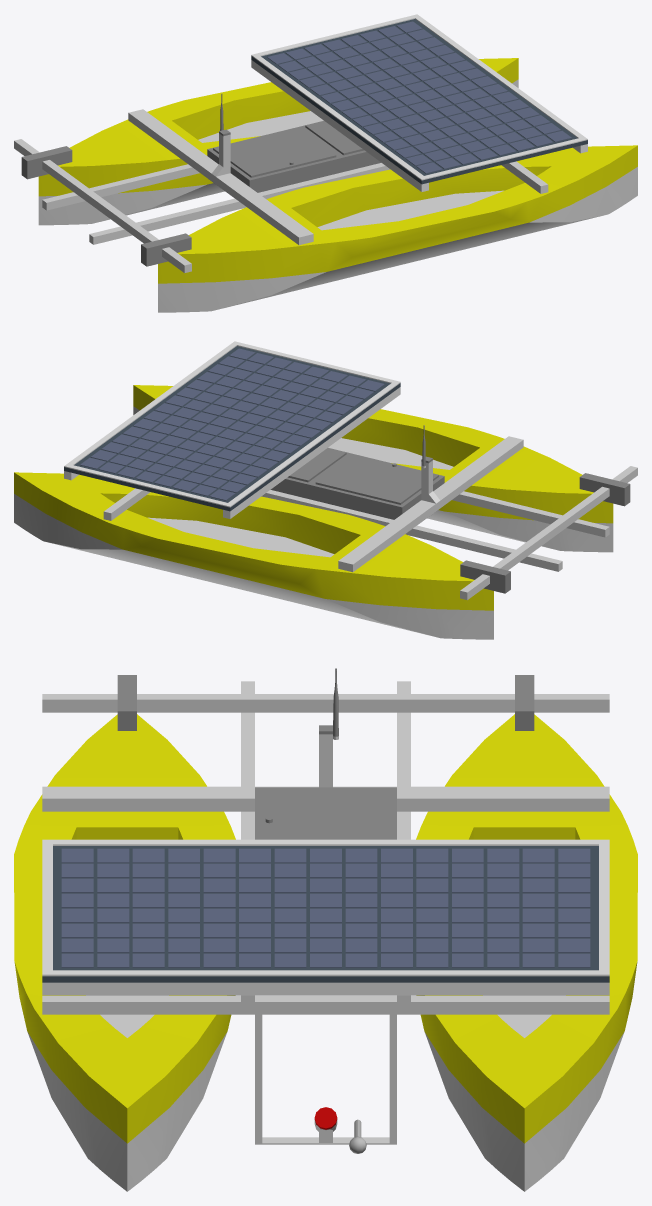
Rendered from squirtle.dae.
3 renders of one model, top to bottom at view 1: azimuth 30°, elevation 25°; view 2: azimuth 150°, elevation 25°; view 3: azimuth 270°, elevation 25°, orthographic. The views are drawn at different scales.
Visible parts, largest first — view 1: barco_y, solar_cell, barco_w, Layer7, solar_pa01, armarios_c, solar-pane, motor_supp, solar_pane, antena; view 2: barco_y, solar_cell, barco_w, Layer7, solar_pa01, armarios_c, solar-pane, motor_supp, solar_pane, antena; view 3: barco_y, solar_cell, Layer7, solar_pa01, barco_w, solar-pane, solar_pane, armarios_c, sonar, motor_supp, antena.
Part boxes in pixels (<box>): barco_y: <box>38,58,637,283</box>; solar_cell: <box>267,21,571,173</box>; barco_w: <box>38,79,637,312</box>; Layer7: <box>14,109,548,273</box>; solar_pa01: <box>251,19,587,184</box>; armarios_c: <box>207,121,381,192</box>; solar-pane: <box>251,14,587,180</box>; motor_supp: <box>21,146,191,266</box>; solar_pane: <box>251,60,587,191</box>; antena: <box>212,133,230,176</box>; barco_y: <box>14,385,613,610</box>; solar_cell: <box>80,348,384,500</box>; barco_w: <box>14,406,613,639</box>; Layer7: <box>103,436,637,600</box>; solar_pa01: <box>64,346,400,511</box>; armarios_c: <box>270,448,444,519</box>; solar-pane: <box>64,341,400,507</box>; motor_supp: <box>460,473,630,593</box>; solar_pane: <box>64,387,400,518</box>; antena: <box>421,460,439,503</box>; barco_y: <box>14,714,637,1143</box>; solar_cell: <box>61,848,590,967</box>; Layer7: <box>42,681,609,1014</box>; solar_pa01: <box>42,846,609,982</box>; barco_w: <box>27,995,624,1191</box>; solar-pane: <box>42,839,609,976</box>; solar_pane: <box>42,982,609,995</box>; armarios_c: <box>255,787,396,839</box>; sonar: <box>255,1014,396,1144</box>; motor_supp: <box>117,675,534,730</box>; antena: <box>319,734,338,1142</box>.
Size of the model in its own units: 2.81 by 1.79 by 0.9062.
